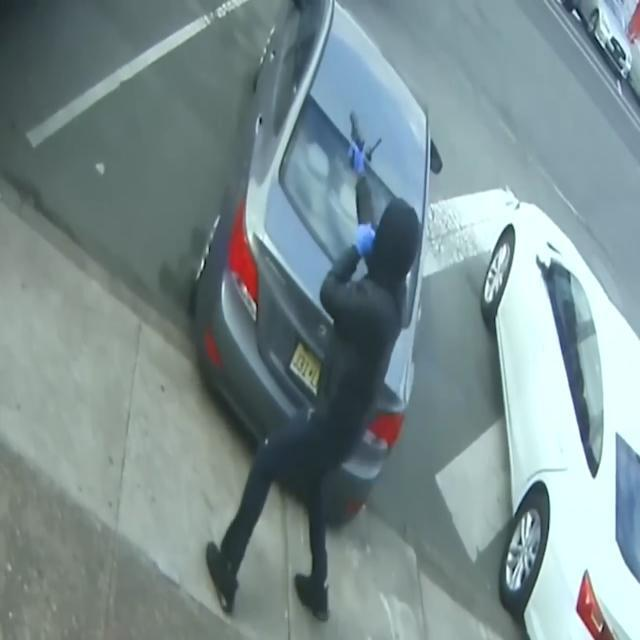Handgun: (343, 108, 370, 178)
